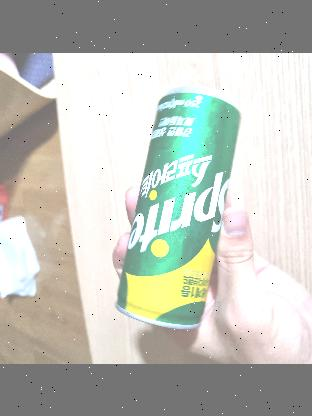Can: (100, 92, 242, 318)
